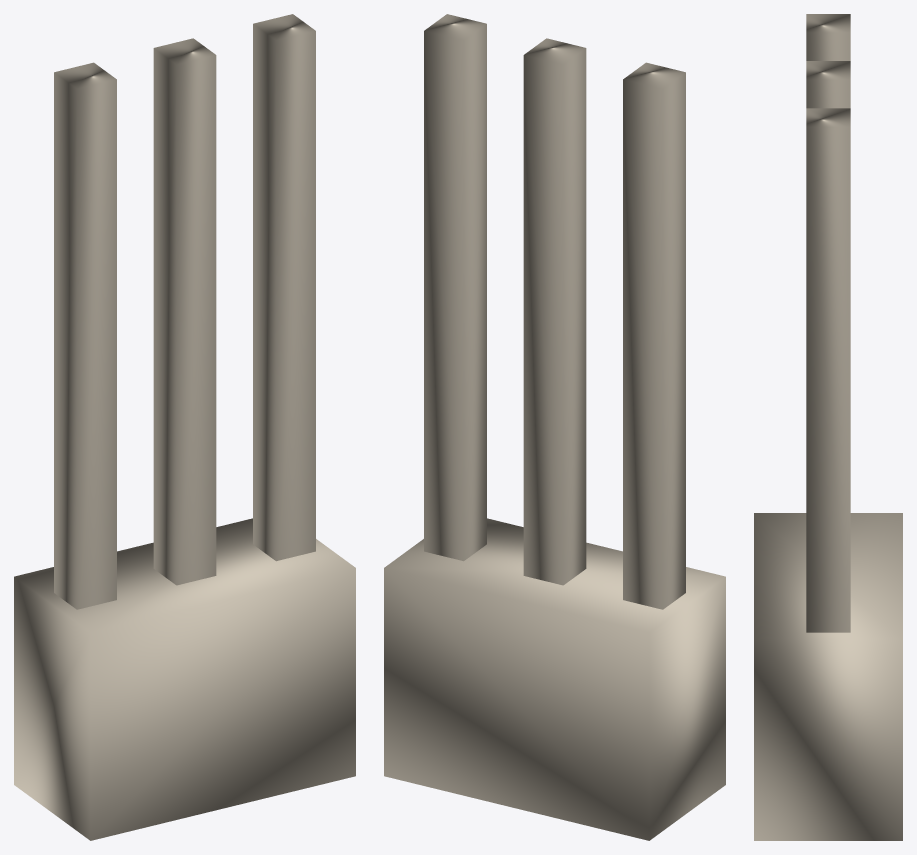
The model's file is claw.glb.
3 renders of one model, left to right at view 1: azimuth 30°, elevation 25°; view 2: azimuth 150°, elevation 25°; view 3: azimuth 270°, elevation 25°, orthographic. The views are drawn at different scales.
Parts seen in each view (by area): view 1: claw; view 2: claw; view 3: claw.
Part boxes in pixels (x1,y1,x2,y2): claw: (14,14,355,840); claw: (384,14,725,840); claw: (754,14,902,840).
Size of the model in its own units: 0.08 by 0.21 by 0.04.
